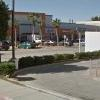Car: (18, 38, 41, 54)
